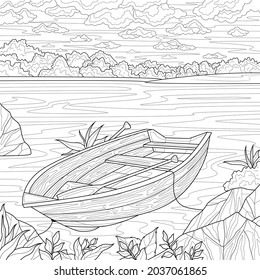boat: (21, 127, 214, 234)
